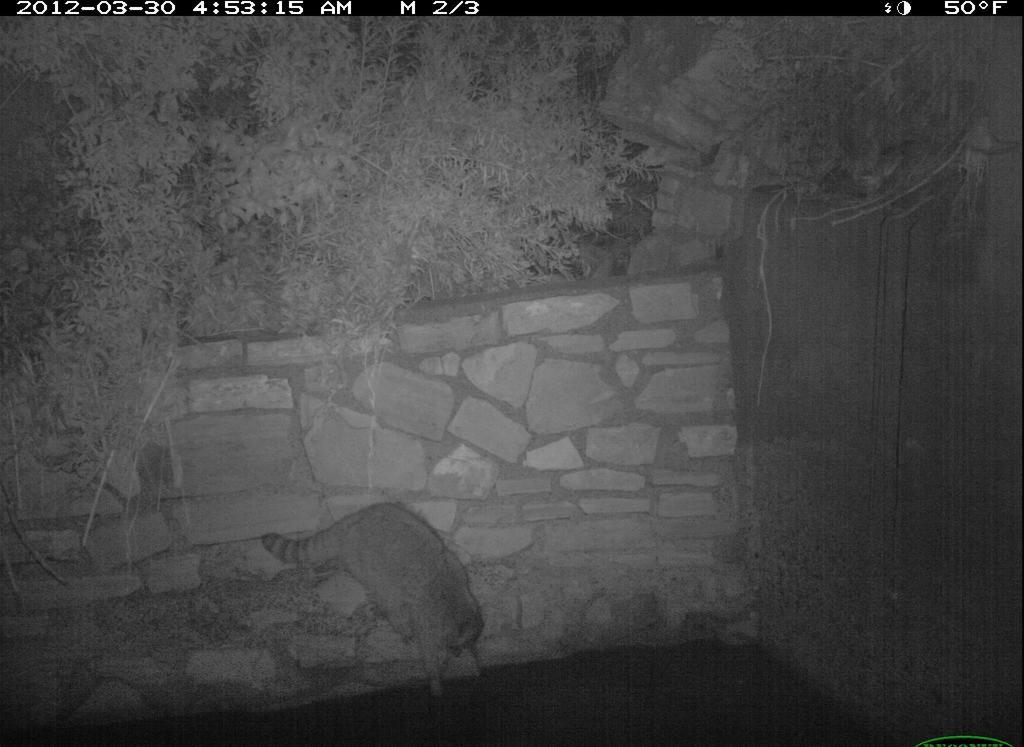raccoon: (259, 495, 491, 694)
